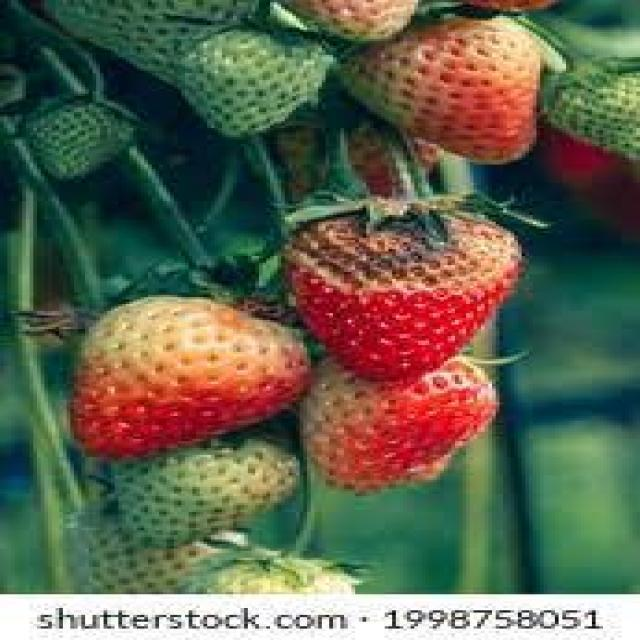Fruta sana: (74, 290, 293, 448), (310, 357, 521, 503)
Mancha negra Antracnosis: (278, 204, 526, 376)
